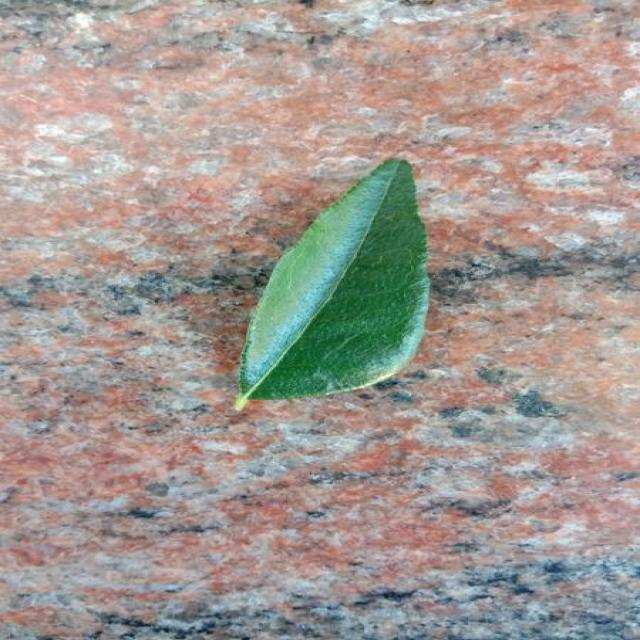curry: (235, 160, 428, 409)
